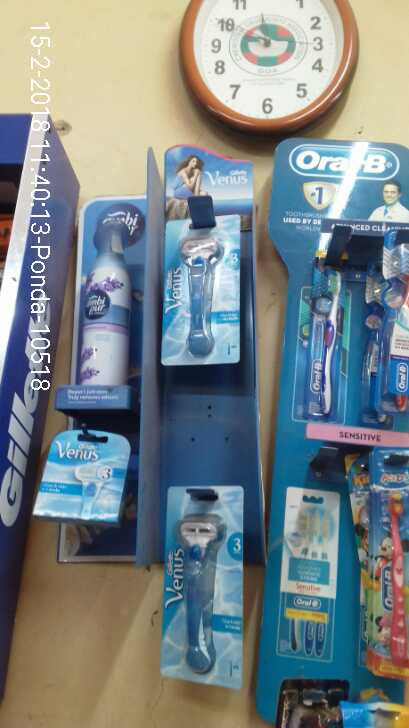beauty: (155, 481, 243, 686), (158, 217, 240, 372)
home: (73, 213, 136, 387)
pharmacy: (369, 453, 409, 680), (300, 248, 349, 424)
